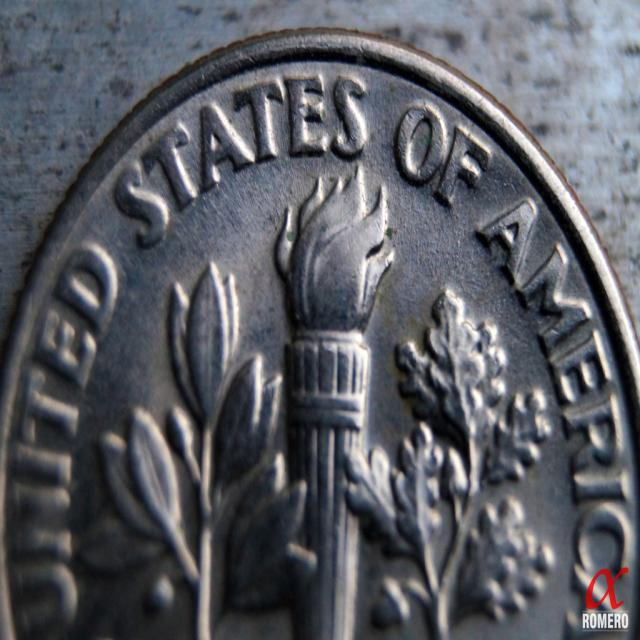Coin: (0, 26, 640, 639)
